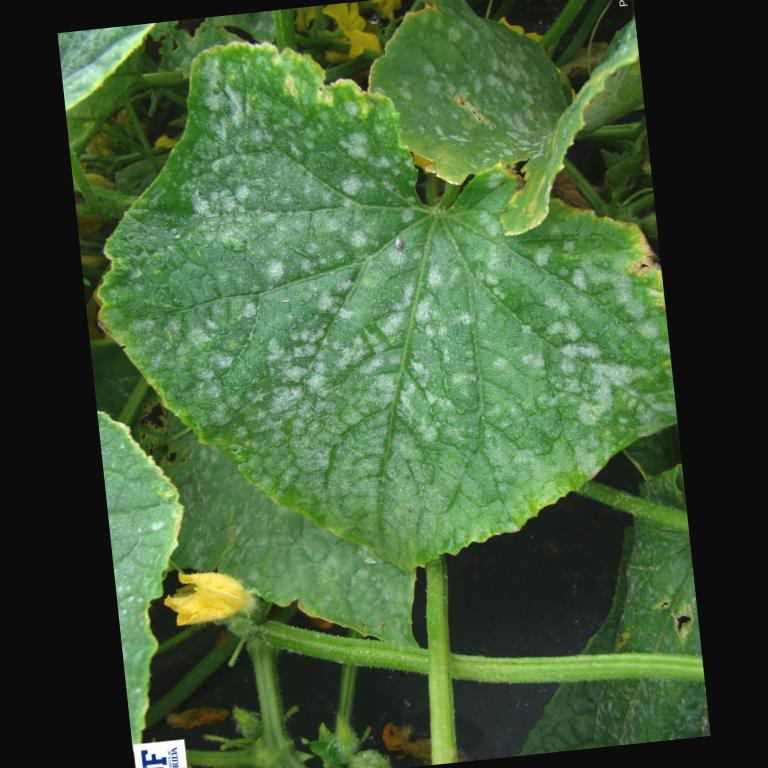powdery-mildew: (246, 272, 414, 450), (201, 100, 364, 264), (518, 258, 654, 430)
